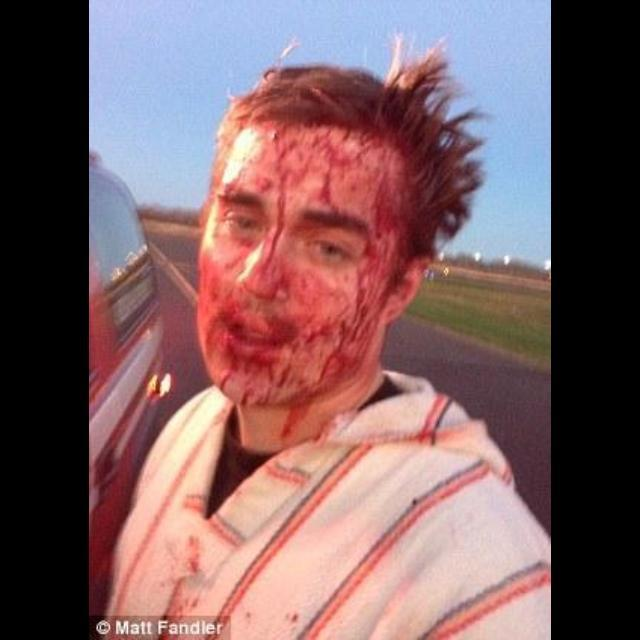blood: (198, 124, 411, 438)
